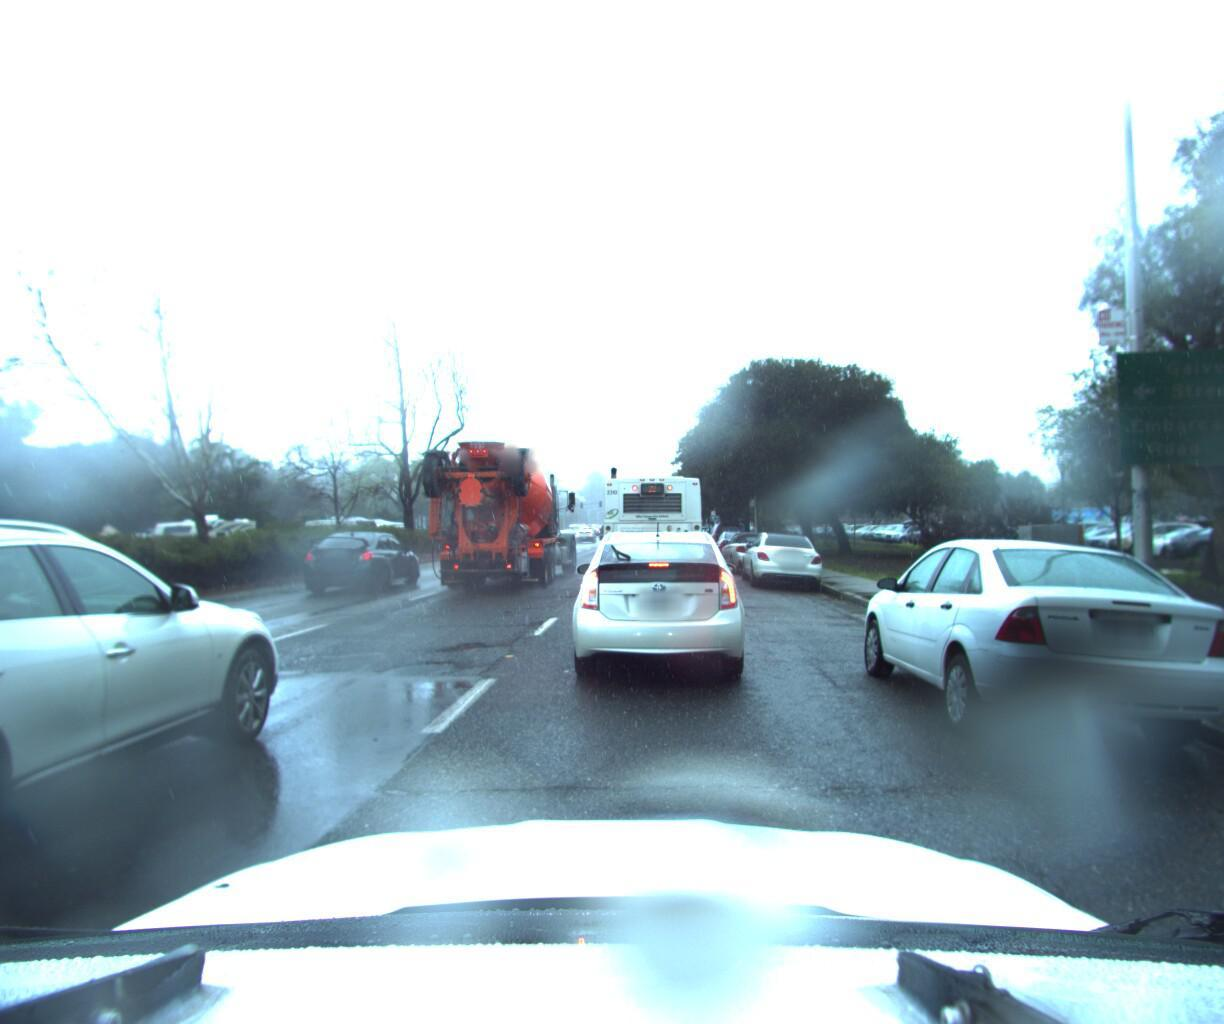bus: (599, 454, 714, 588)
car: (0, 493, 308, 1024), (839, 526, 1224, 767), (561, 519, 755, 696), (296, 525, 428, 597), (732, 524, 829, 587), (717, 529, 782, 574), (708, 525, 756, 561), (577, 528, 600, 545)
other_vehicle: (152, 505, 271, 565), (301, 510, 374, 554), (346, 513, 409, 550)
truck: (407, 431, 584, 598)
